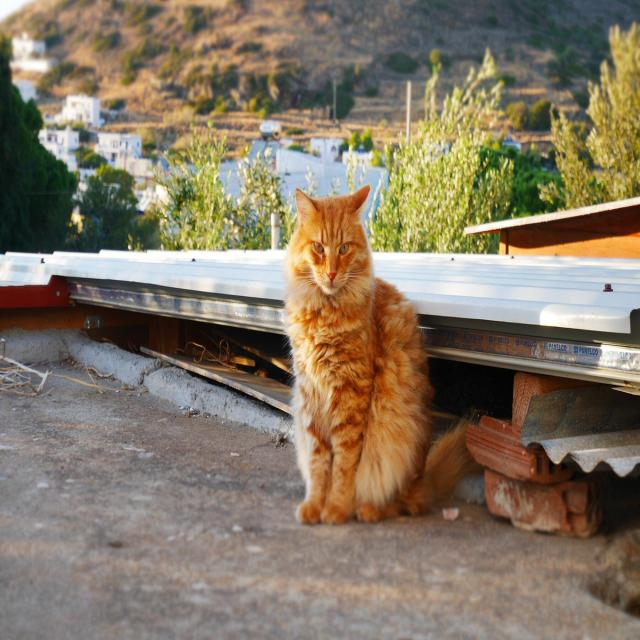cat: (285, 186, 470, 523)
